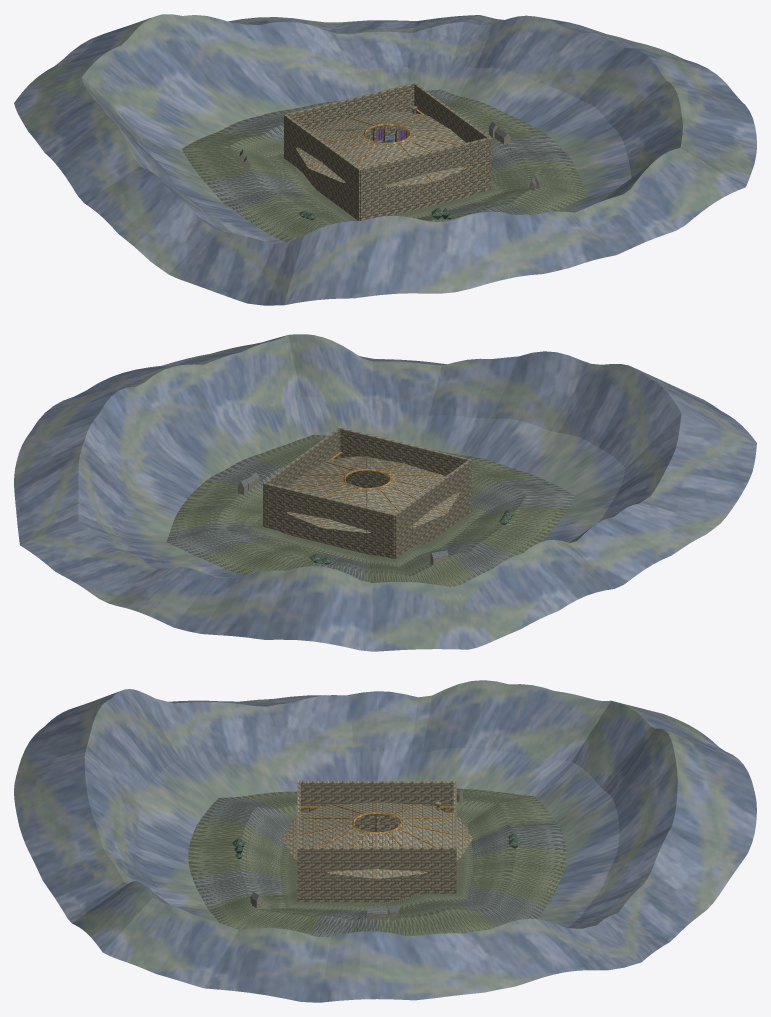
Rendered from OrreryLoft.fbx.
3 views of the same model, one above another, from view 1: azimuth 30°, elevation 25°; view 2: azimuth 150°, elevation 25°; view 3: azimuth 270°, elevation 25° (orthographic). The views are drawn at different scales.
Parts seen in each view (by area): view 1: Surroundings, C_Solids, Rim; view 2: Surroundings, C_Solids, Rim; view 3: Surroundings, C_Solids, Rim.
Part boxes in pixels (x1=…): Surroundings: x1=14, y1=14, x2=756, y2=305; C_Solids: x1=284, y1=83, x2=490, y2=220; Rim: x1=296, y1=109, x2=467, y2=187; Surroundings: x1=14, y1=334, x2=756, y2=651; C_Solids: x1=263, y1=427, x2=471, y2=558; Rim: x1=286, y1=451, x2=459, y2=533; Surroundings: x1=14, y1=680, x2=756, y2=1002; C_Solids: x1=297, y1=781, x2=456, y2=902; Rim: x1=281, y1=801, x2=472, y2=879.
Bounding box in the file's own units: 19171 × 2981 × 19396.
